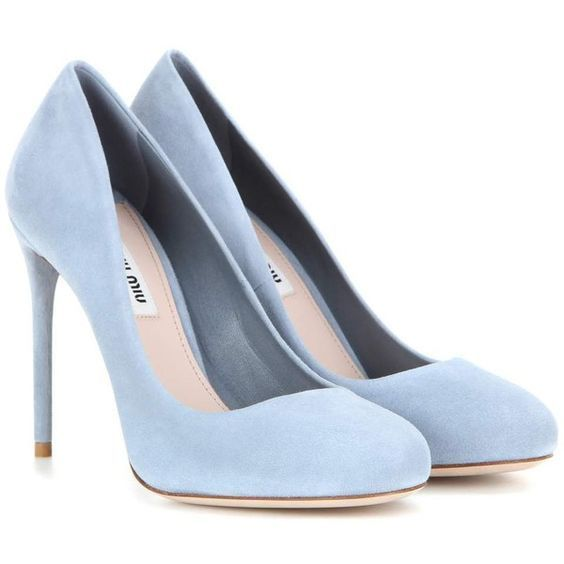gamuza: (5, 49, 560, 499)
